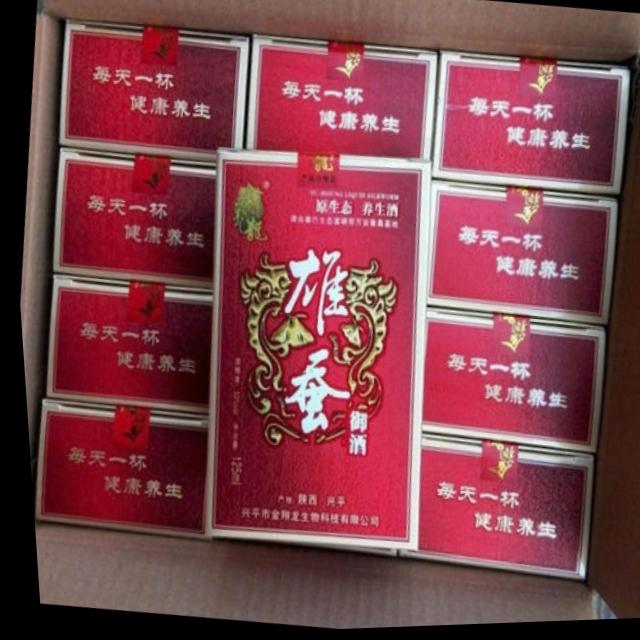box: (197, 149, 423, 552), (427, 55, 628, 198), (393, 436, 588, 583), (421, 184, 613, 331), (415, 311, 603, 460), (57, 23, 248, 167), (243, 35, 438, 164), (27, 399, 201, 541), (48, 149, 215, 294), (41, 276, 205, 420)
